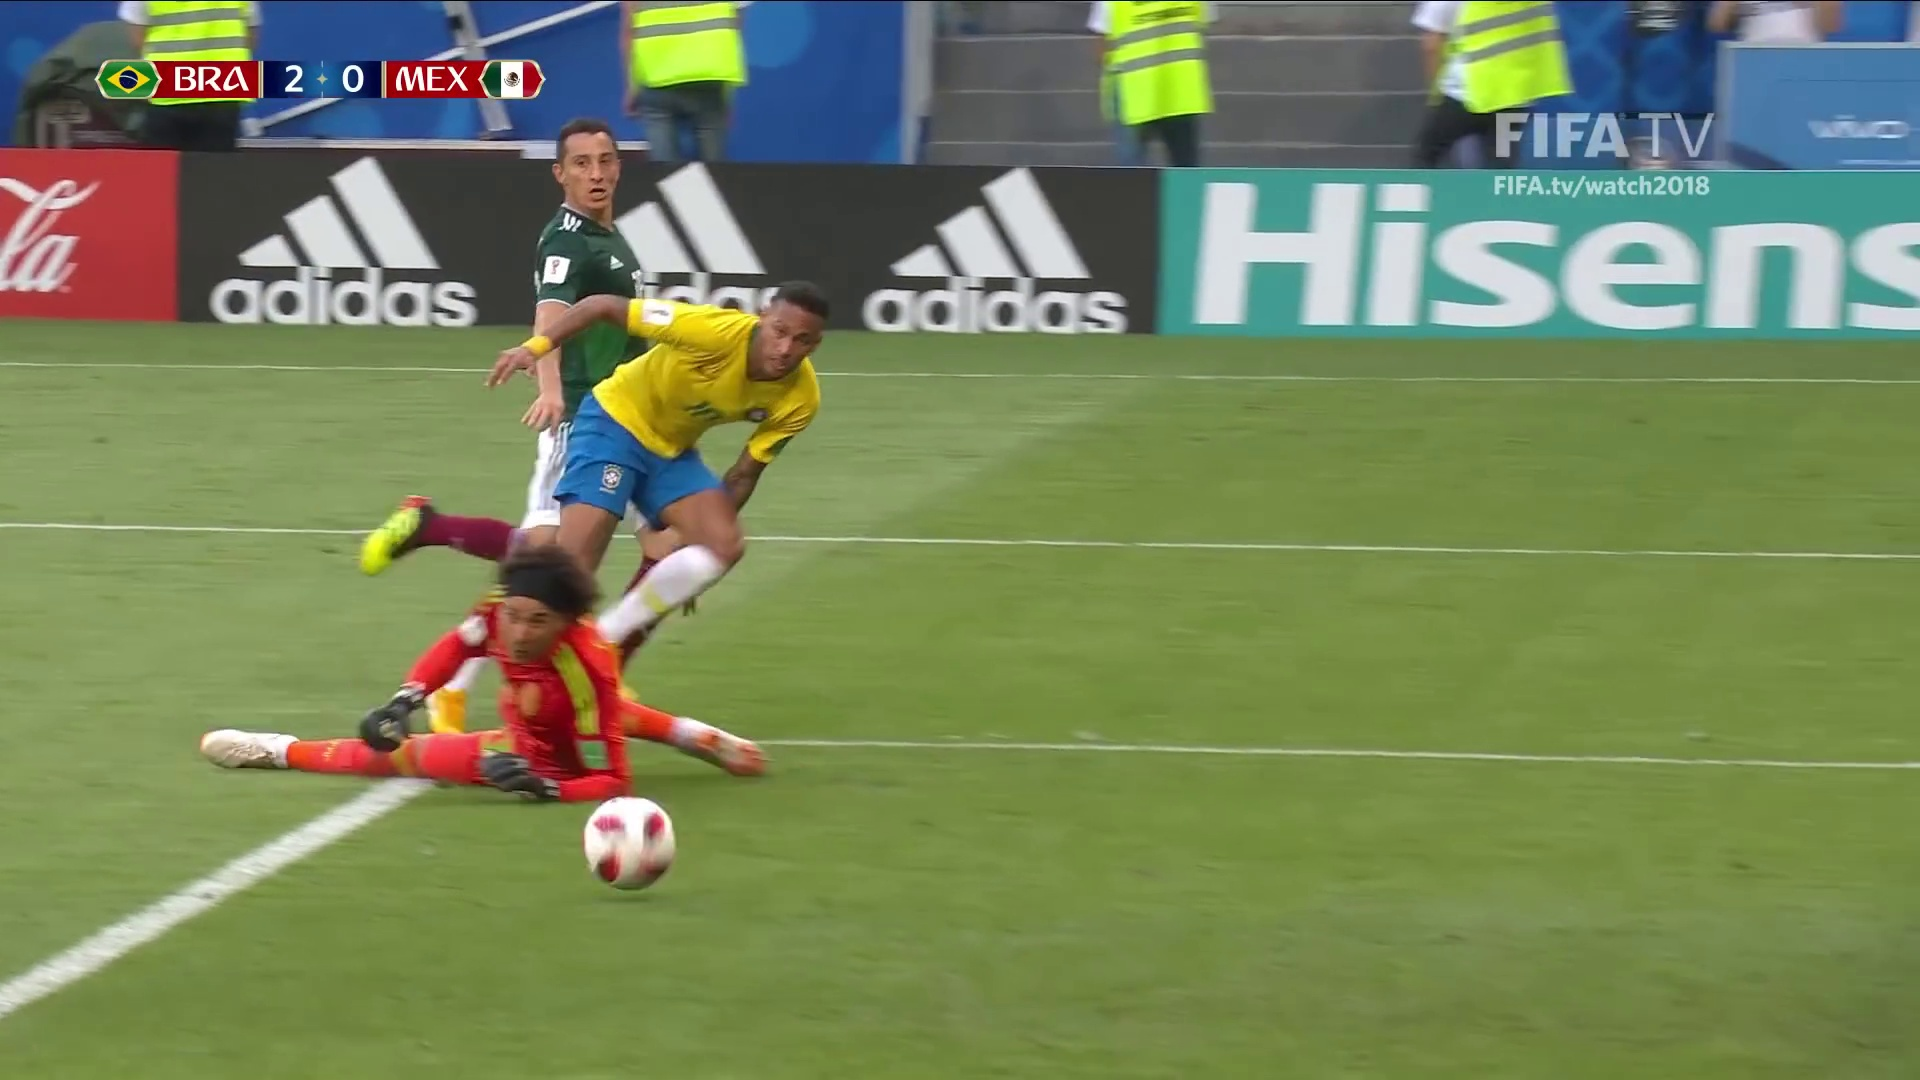ball: (586, 797, 676, 895)
person: (192, 557, 778, 801), (538, 284, 830, 659), (534, 128, 659, 382)
